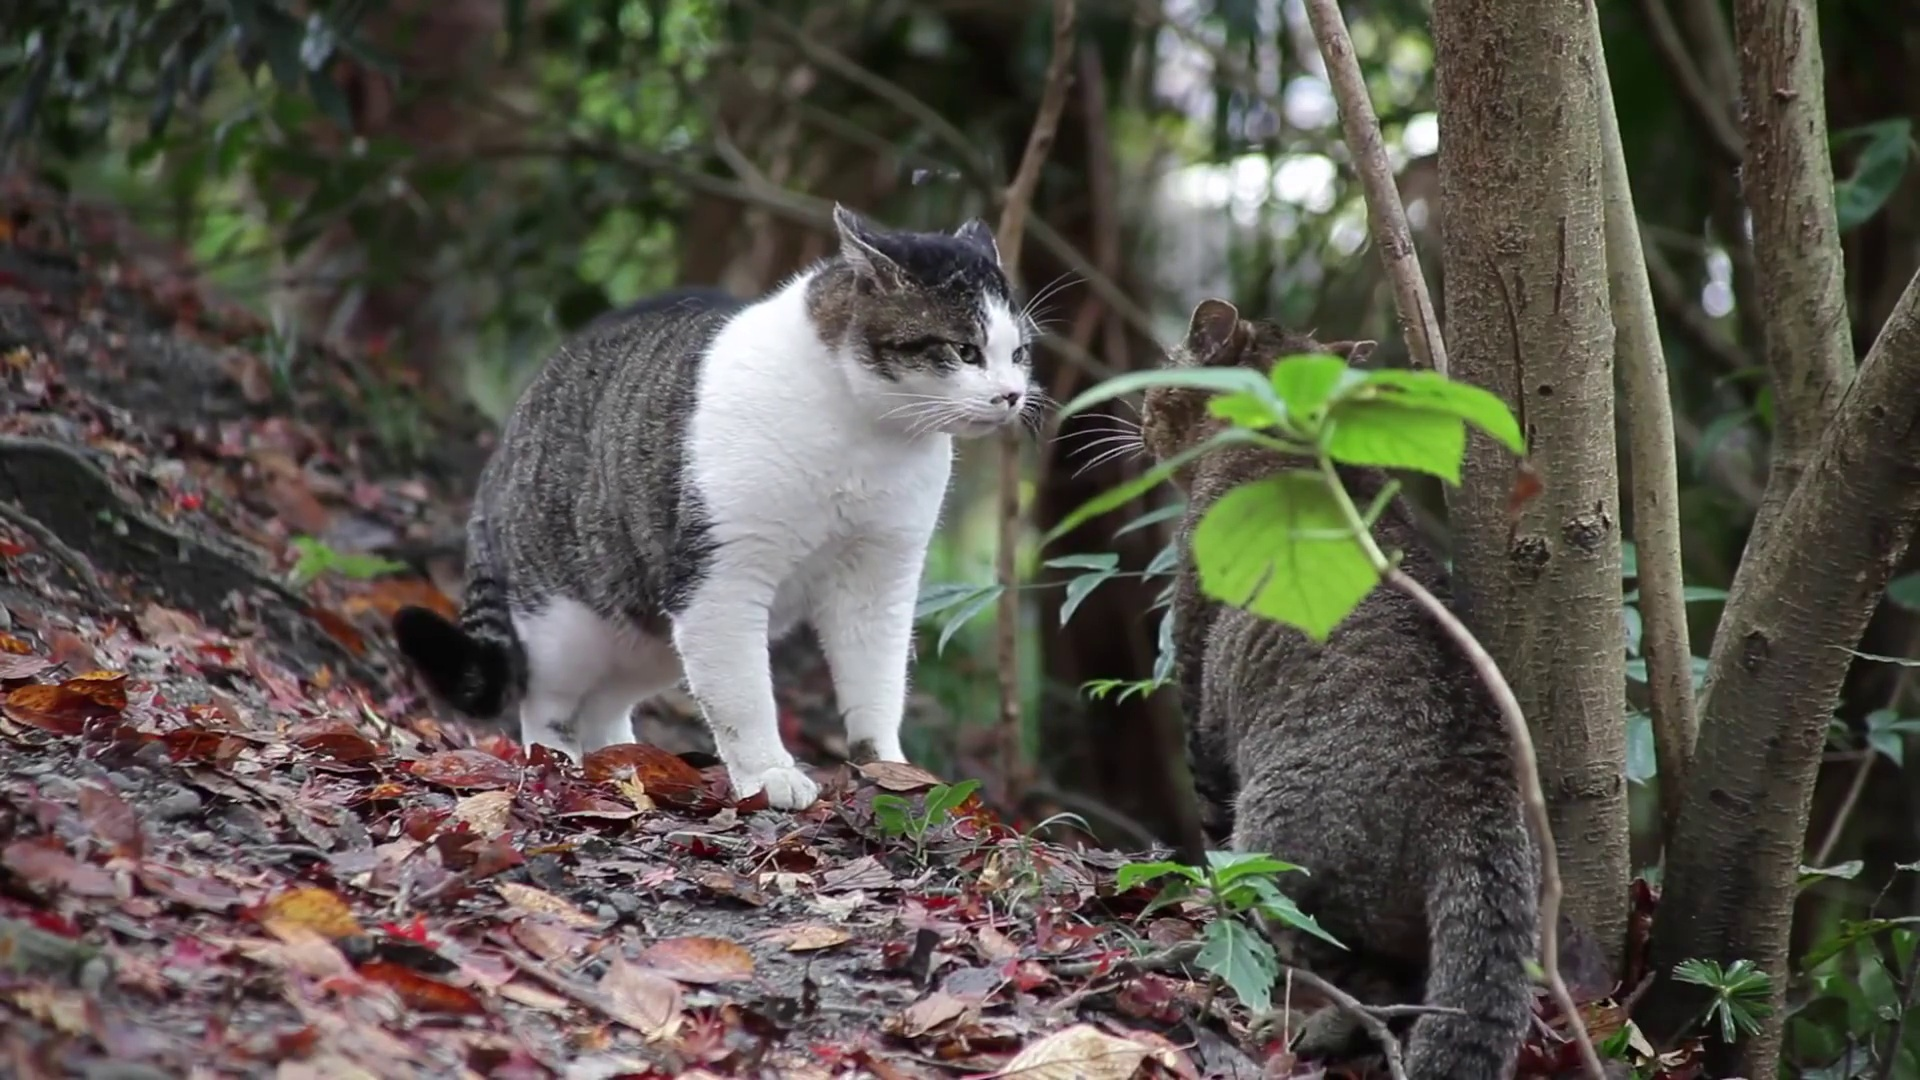black-white: (396, 203, 1027, 822)
pure black: (1137, 302, 1545, 1080)
